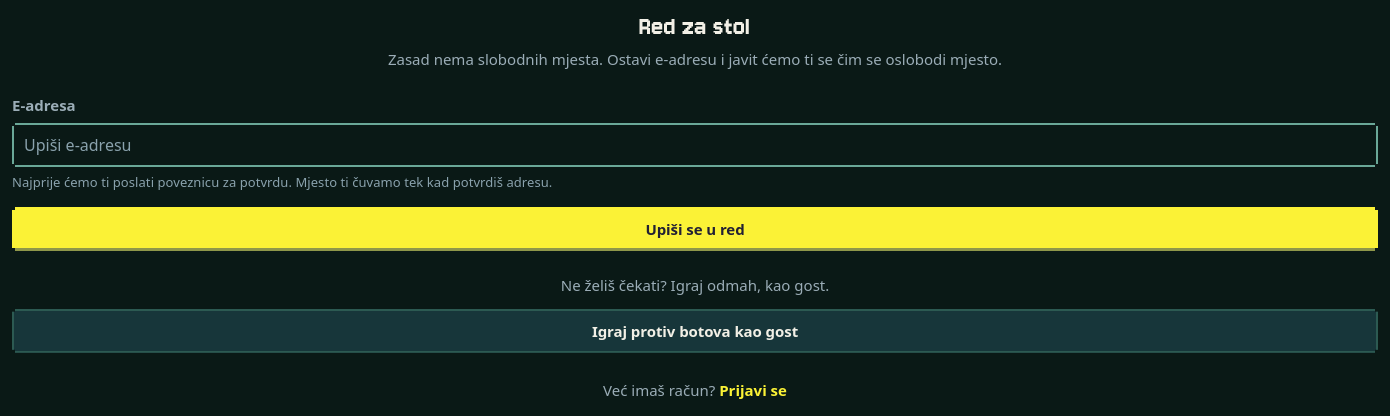
Scenario: SignupForm, the cap and the waitlist (spec §2) › the waitlist in Croatian (§1.4)
Expected: the heading "Red za stol" is shown, [640, 11, 751, 42]
Expected: the buttons read "Upiši se u red", "Igraj protiv botova kao gost", in this order, [12, 207, 1378, 251]; [12, 309, 1378, 353]
Type "ana@example.com" into the field labelled "E-adresa" at (695, 145), box [12, 123, 1378, 167]
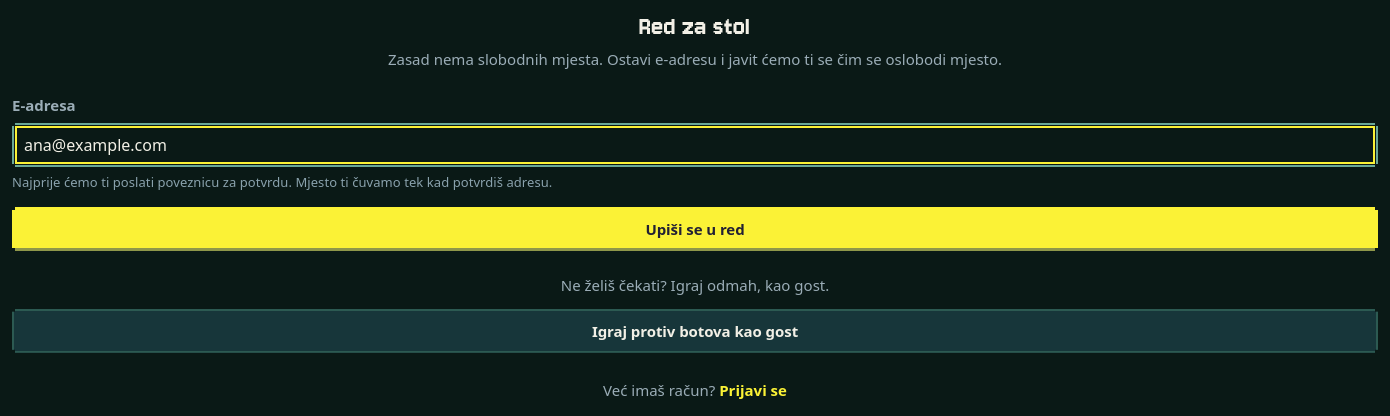
Click the button "Upiši se u red" at (695, 229), box [12, 207, 1378, 251]
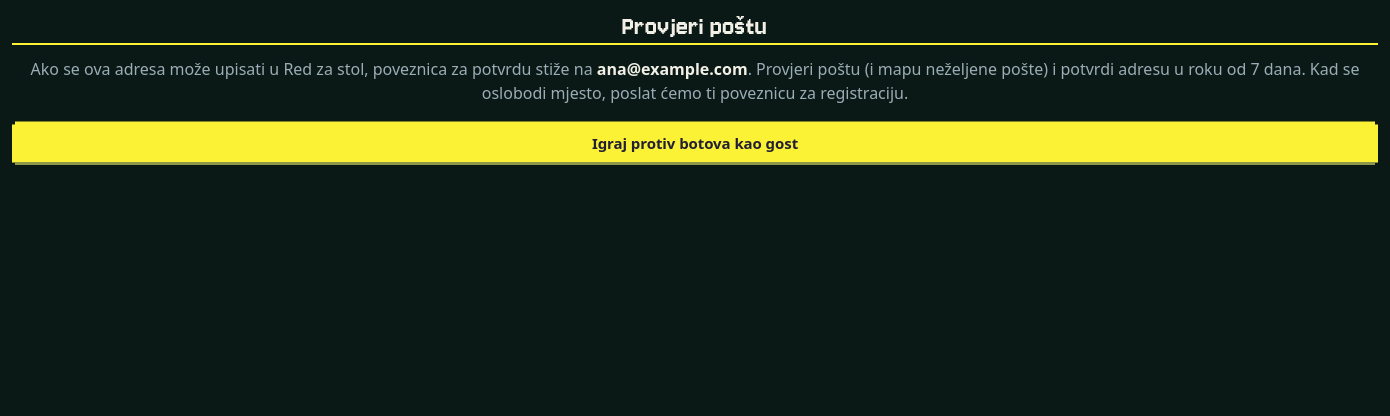
Now the heading "Provjeri poštu" is shown, box [622, 11, 767, 42]
